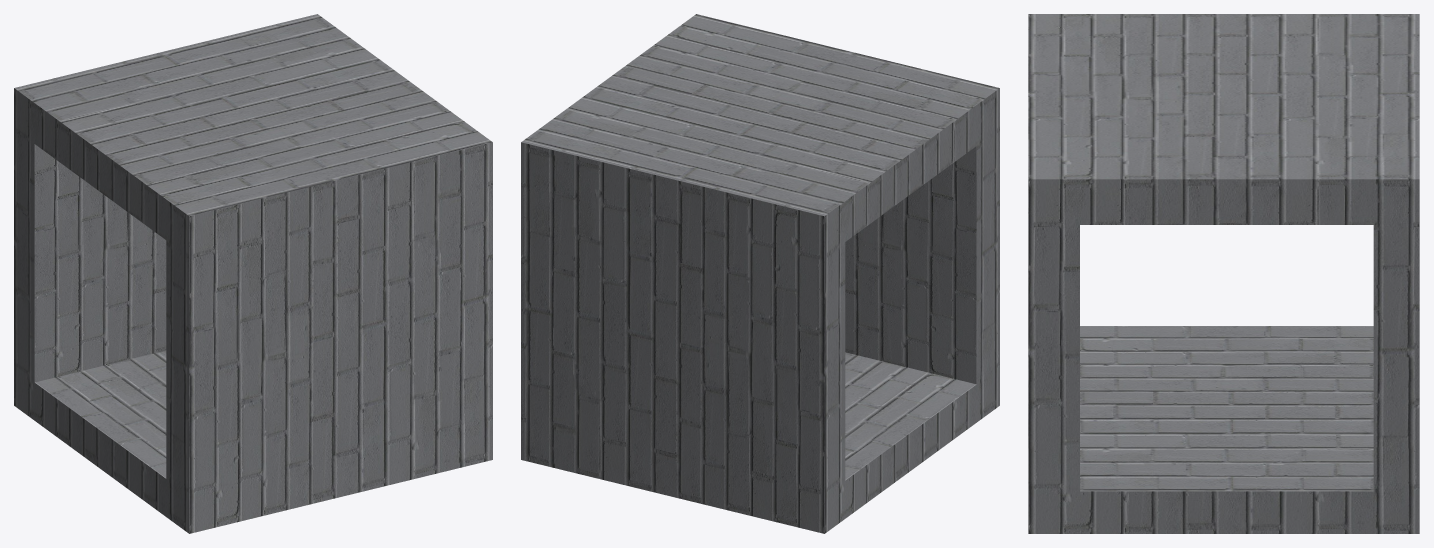
Rendered from cor.fbx.
3 renders of one model, left to right at view 1: azimuth 30°, elevation 25°; view 2: azimuth 150°, elevation 25°; view 3: azimuth 270°, elevation 25°, orthographic. The views are drawn at different scales.
Parts seen in each view (by area): view 1: Cube; view 2: Cube; view 3: Cube.
Boxes of the visible parts, x1,y1,x2,y2 form: Cube: [14, 14, 492, 533]; Cube: [521, 14, 999, 533]; Cube: [1028, 14, 1419, 533].
Size of the model in its own units: 200 by 200 by 200.
1 material, 1 textured.
